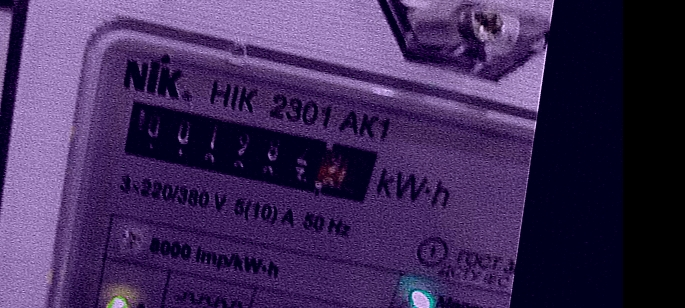0: (172, 116, 193, 147), (143, 109, 163, 140)
1: (204, 121, 220, 151)
2: (293, 136, 314, 168)
8: (263, 133, 283, 163)
9: (322, 147, 346, 177), (232, 128, 251, 159)
screen: (103, 84, 394, 219)
